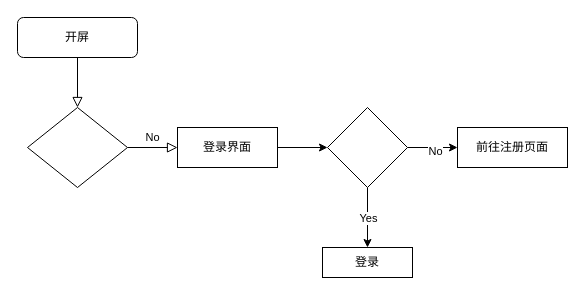
The diagram is 585 pixels wide and 295 high, and some of its shapes have lost their labels. Here are the shapes that lost their labels. From the top down, the centre of each, then its label:
(77,147): 是否登录
(367,147): 已注册
